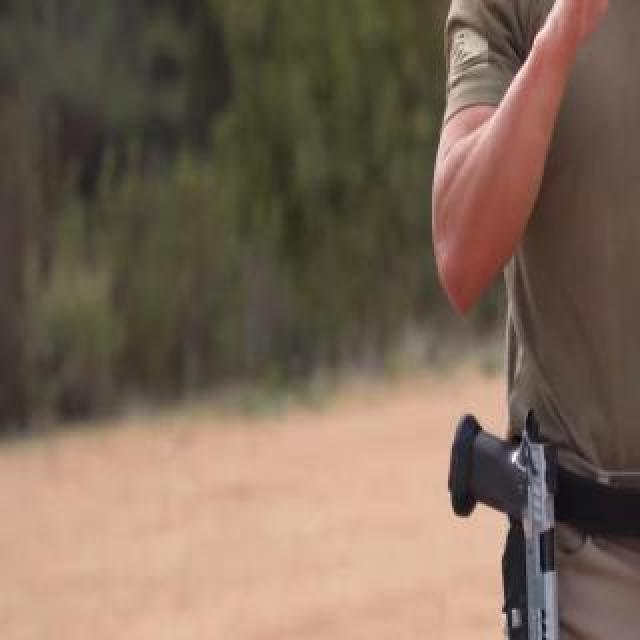Guns: (429, 401, 585, 640)
